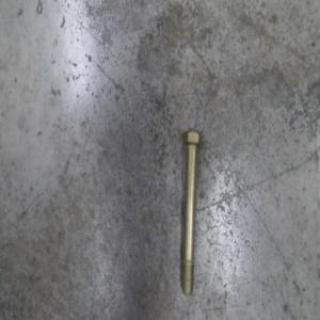Bolttrack_idkeyframe: (180, 127, 202, 296)
